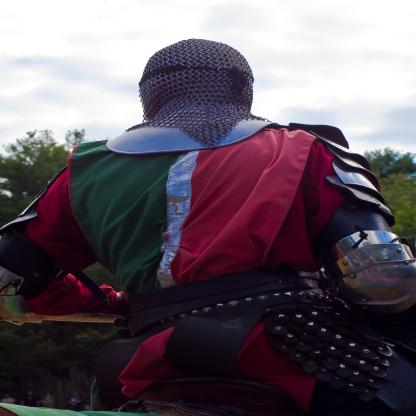Helmet: (132, 42, 267, 149)
